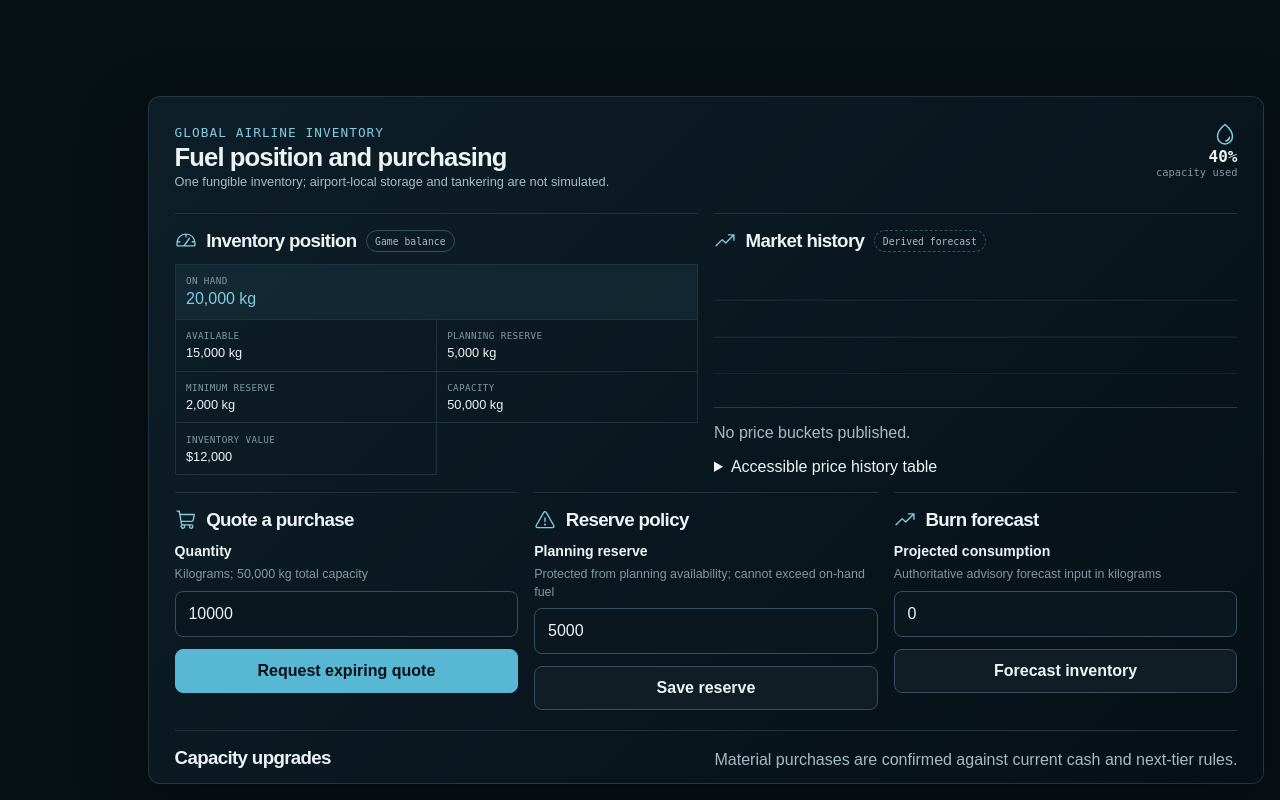
Scenario: fuel quote workflow › shows quote expiry and preserves quantity when purchase conflicts
Replace the text in the field labelled "Quantity" with "12345". click: (346, 614)
box: 175,591 -> 518,637
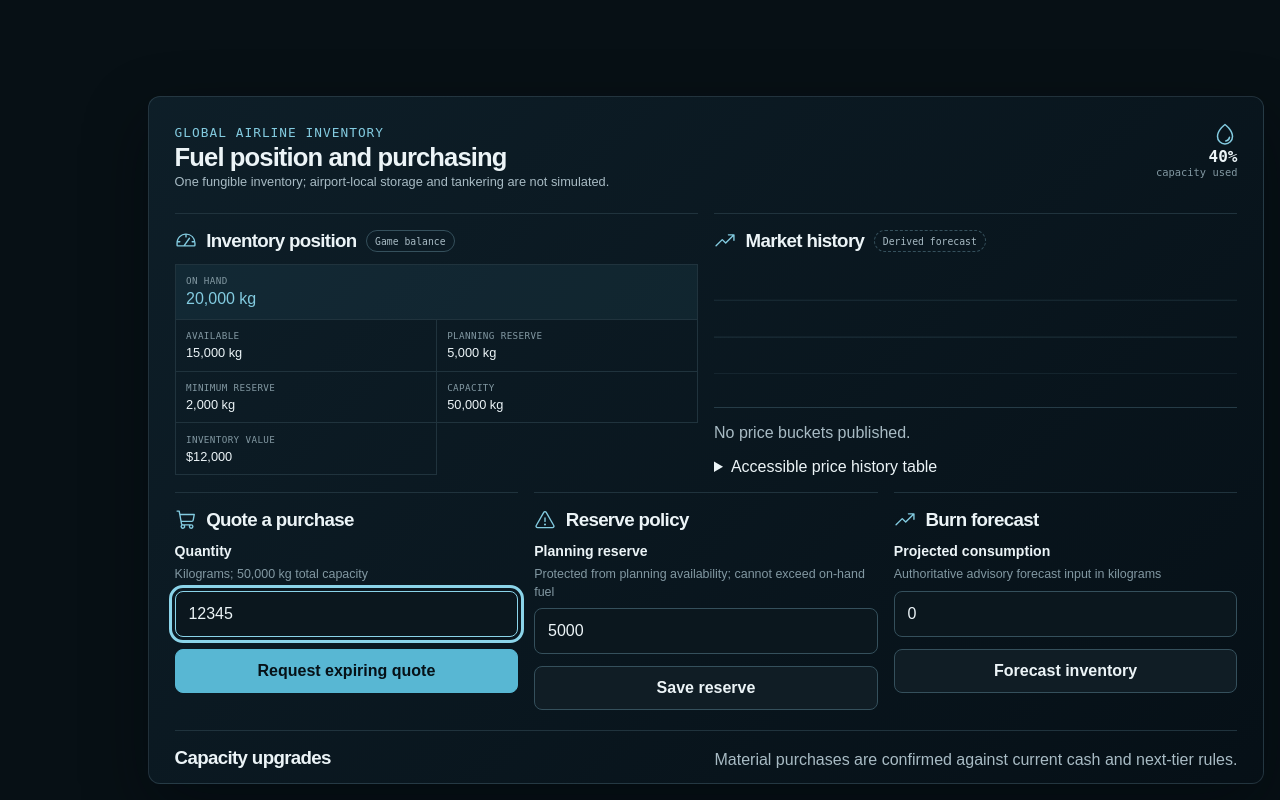
Click the button "Request expiring quote". click: (346, 671)
box: 175,649 -> 518,693
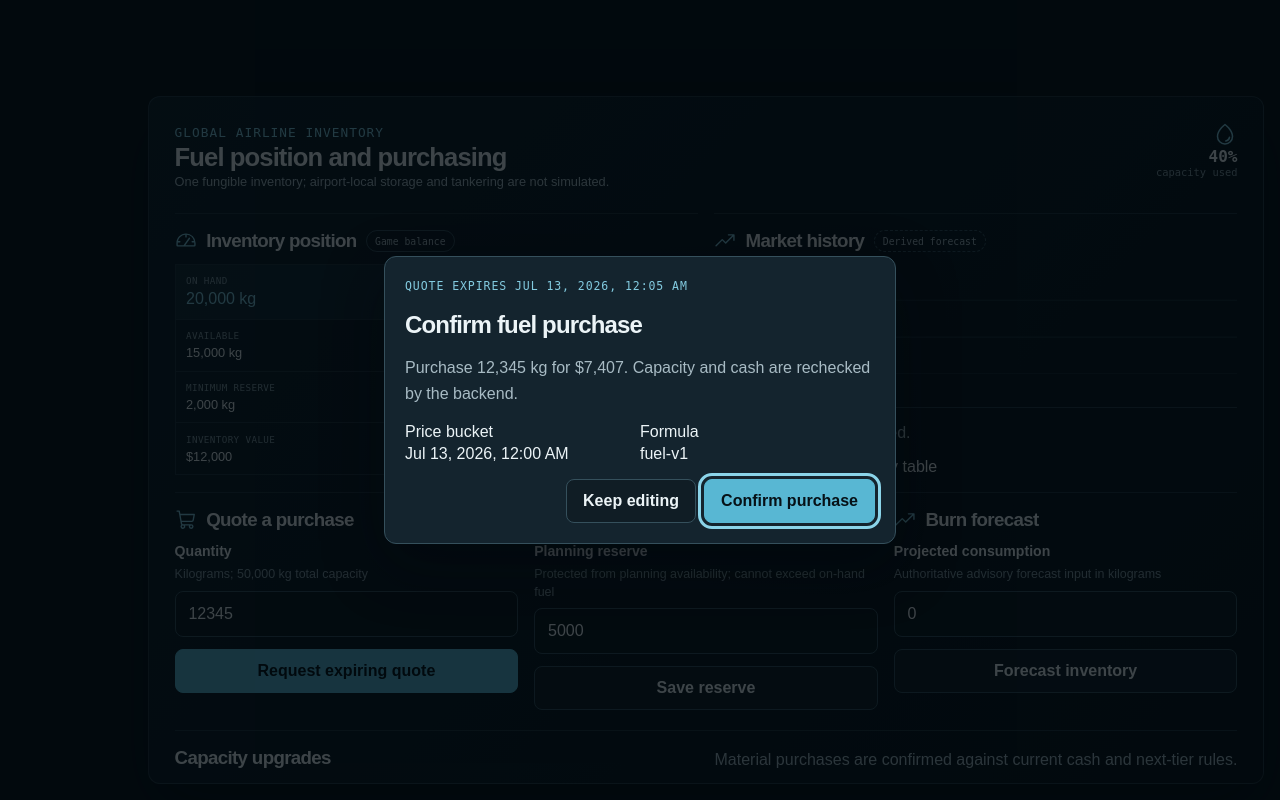
Check: the dialog "Confirm fuel purchase" is shown, box 384,256 -> 896,544
Check: the text "Quote expires Jul 13, 2026, 12:05 AM" is shown, box 405,279 -> 688,293
Click the button "Confirm purchase". click: (790, 501)
box: 704,479 -> 875,523
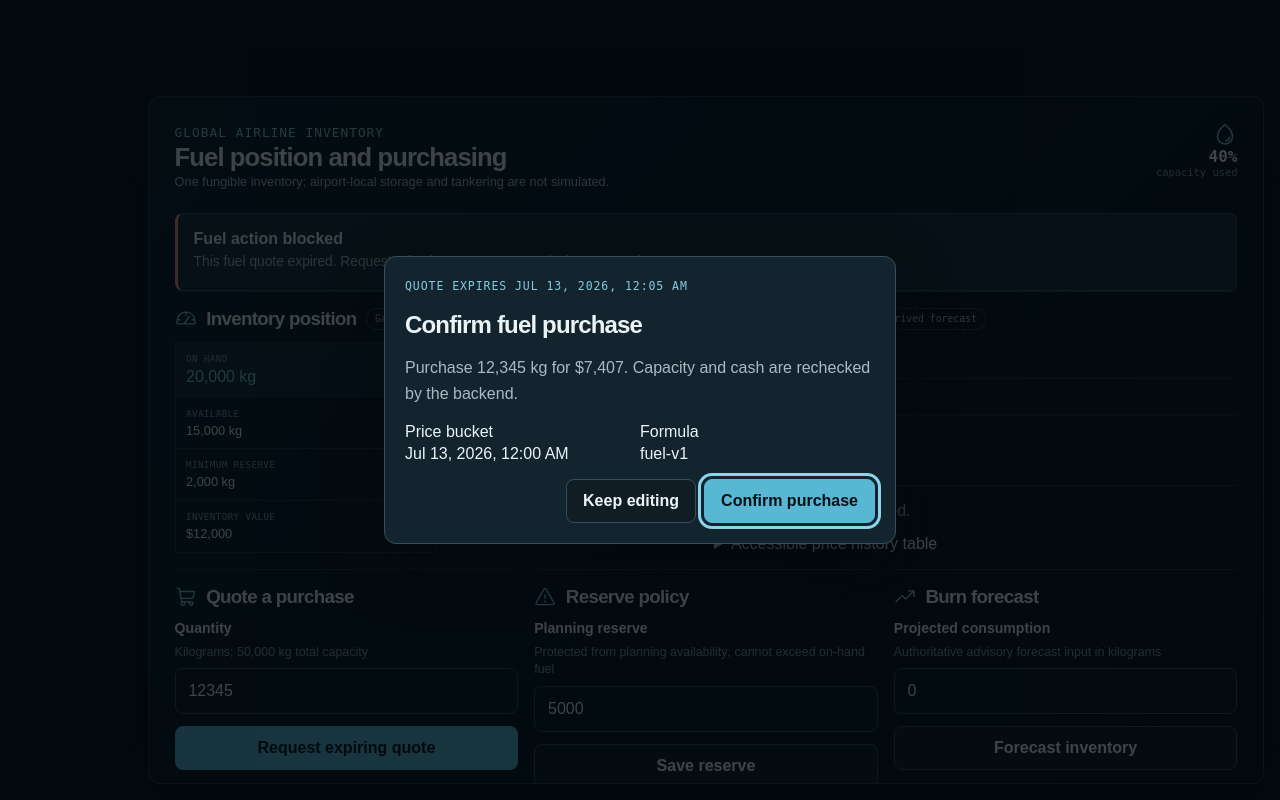
Check: the text "This fuel quote expired" is shown, box 194,254 -> 645,269
